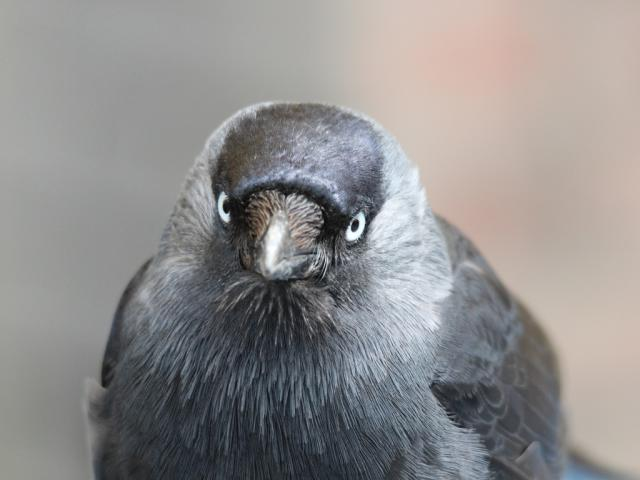Bird: (72, 97, 568, 479)
